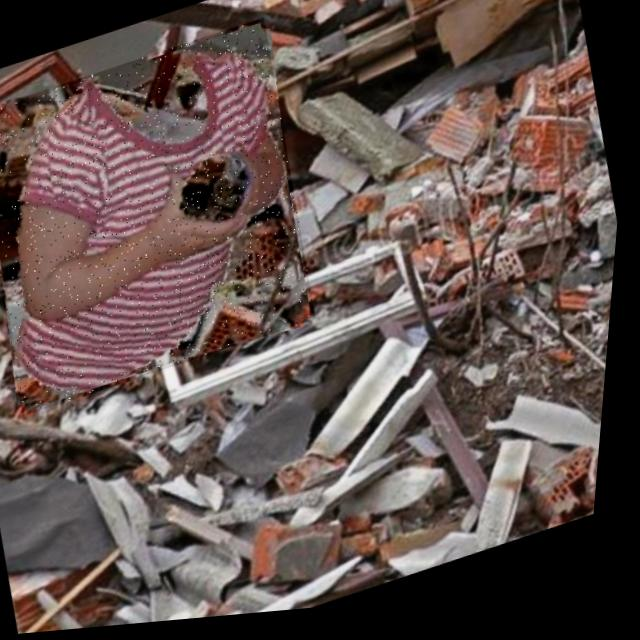Person in Rubble: (0, 16, 340, 420)
